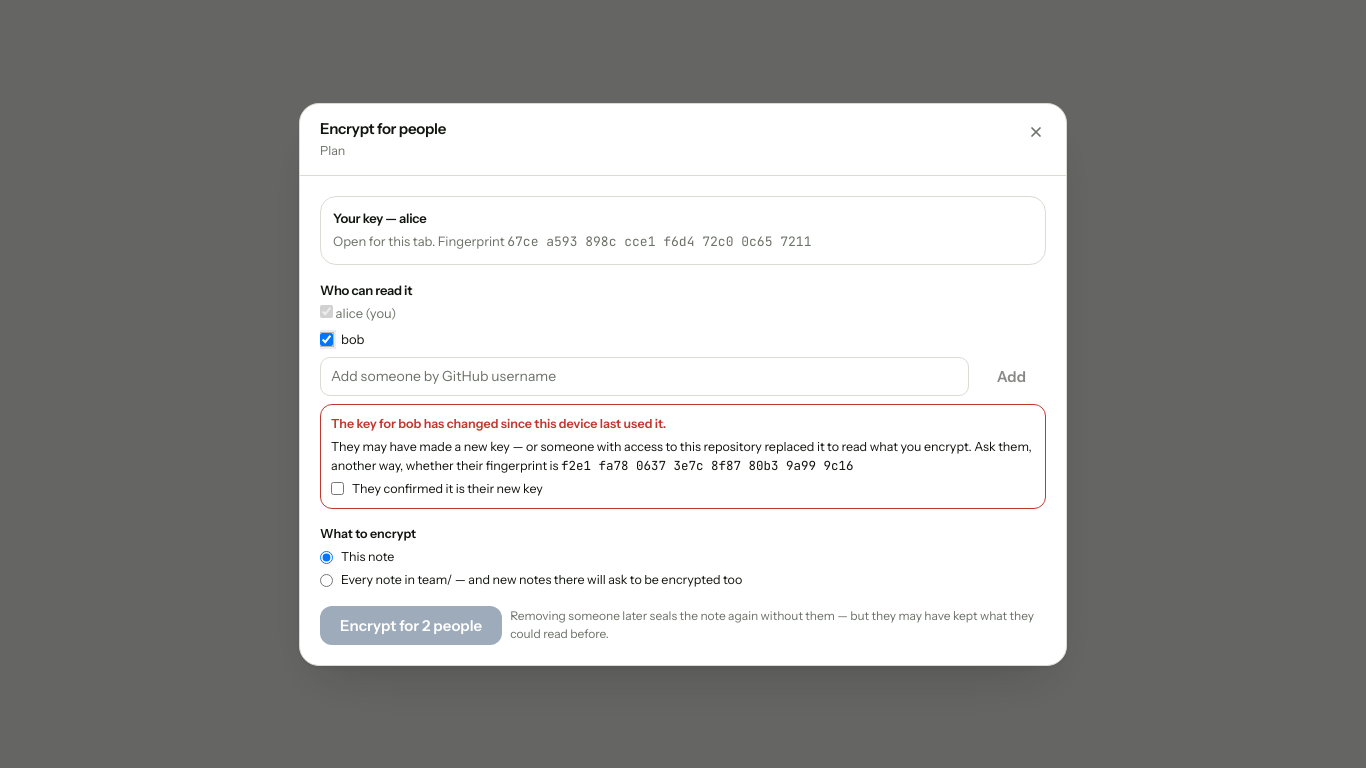
Test: ShareEncryptDialog › refuses to encrypt for someone whose key changed, until confirmed
The image size is (1366, 768).
expect the text "The key for bob has changed since this device last used it." is shown: met, box [331,416,666,431]
expect the button "Encrypt for 2 people" is disabled: met, box [320,606,502,644]
Click the checkbox labelled "They confirmed it is their new key".
click(338, 489)  # box [331,482,344,495]
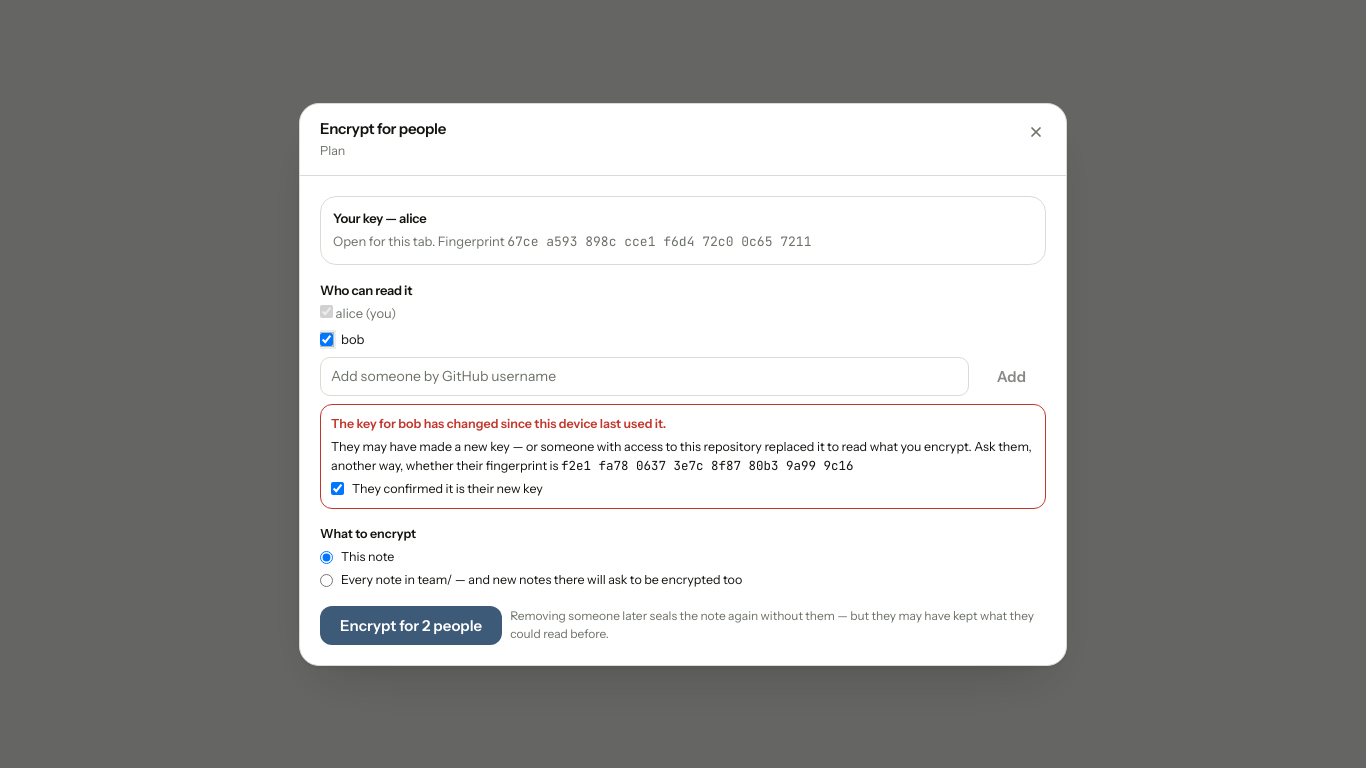
expect the button "Encrypt for 2 people" is enabled: met, box [320,606,502,644]
